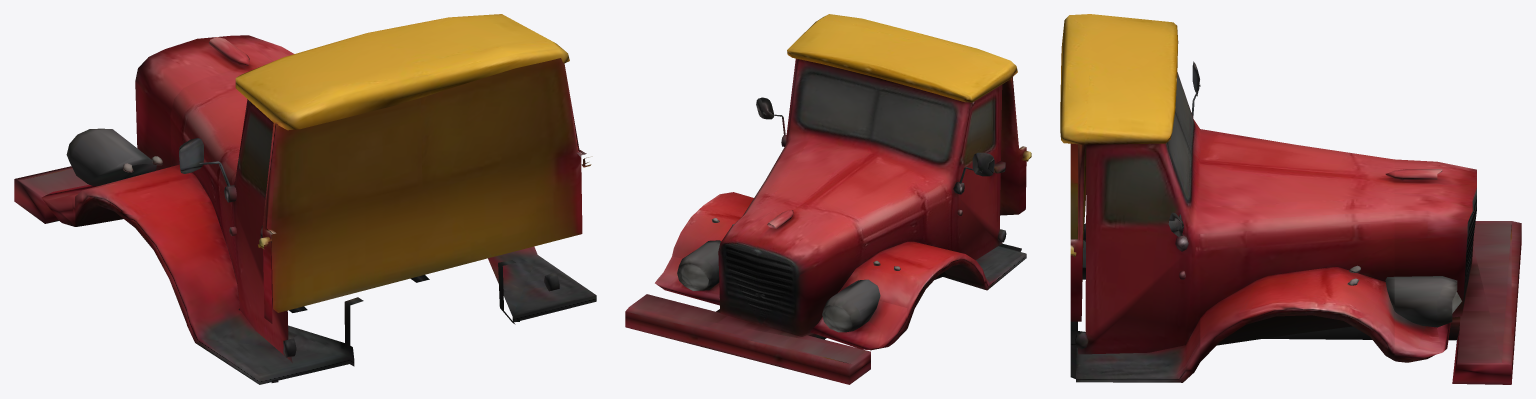
File: lead-truck-cab.glb
3 views of the same model, side by side, from view 1: azimuth 30°, elevation 25°; view 2: azimuth 150°, elevation 25°; view 3: azimuth 270°, elevation 25° (orthographic). The views are drawn at different scales.
Parts seen in each view (by area): view 1: Lead truck cab; view 2: Lead truck cab; view 3: Lead truck cab.
Boxes of the visible parts, box(x1,y1,x2,y2) form: Lead truck cab: box(14, 14, 596, 384); Lead truck cab: box(625, 14, 1031, 384); Lead truck cab: box(1060, 14, 1521, 384).
Bounding box in the file's own units: 2.67 × 2.02 × 3.42.
1 material, 1 textured.
